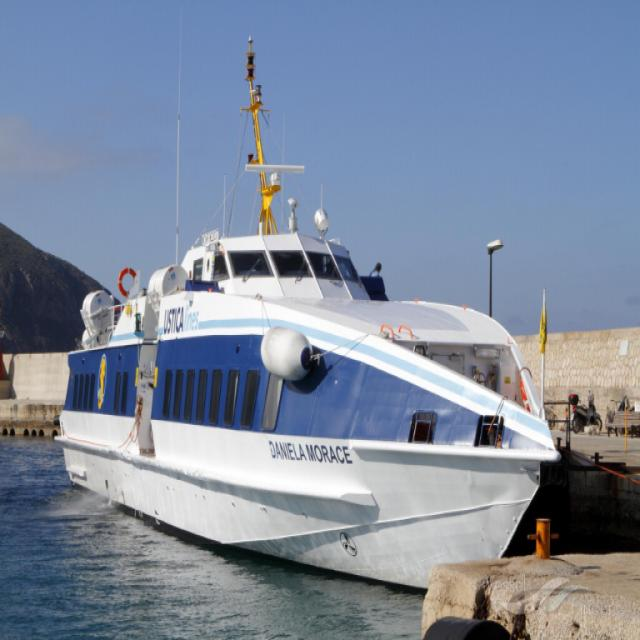Passenger Ship: (61, 44, 559, 593)
